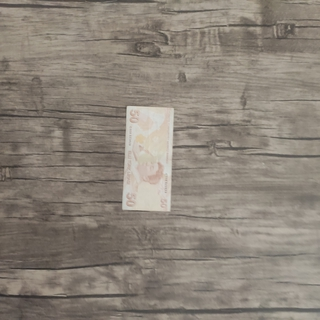50TLBack: (121, 105, 175, 212)
